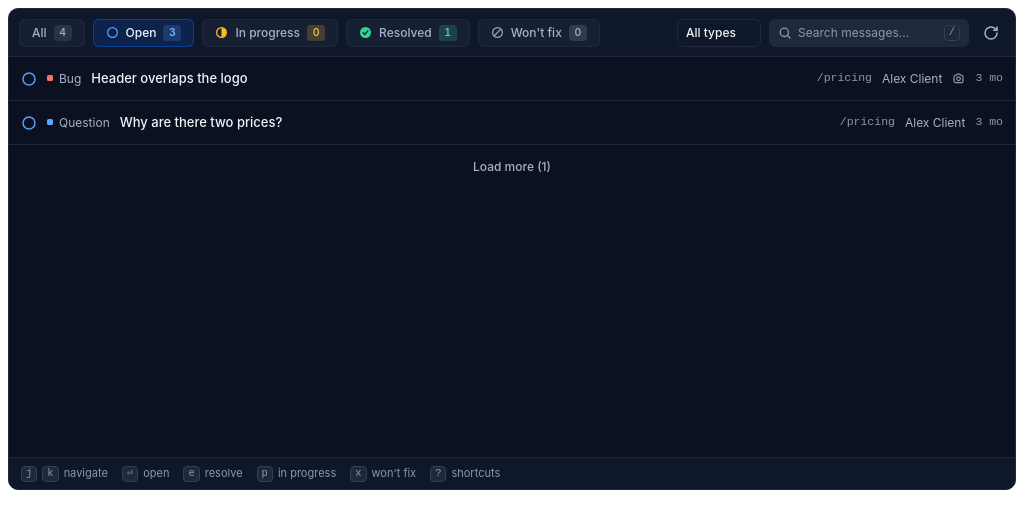
Test case: InstaFixInbox — list & tabs › shows a load-more button when more pages exist and appends on click
This screenshot has width=1024, height=507.
Expected: the number of options is 2, [9, 57, 1015, 101]; [9, 101, 1015, 145]
Click the button "Load more (1)".
click(512, 167)  # box [460, 153, 564, 181]
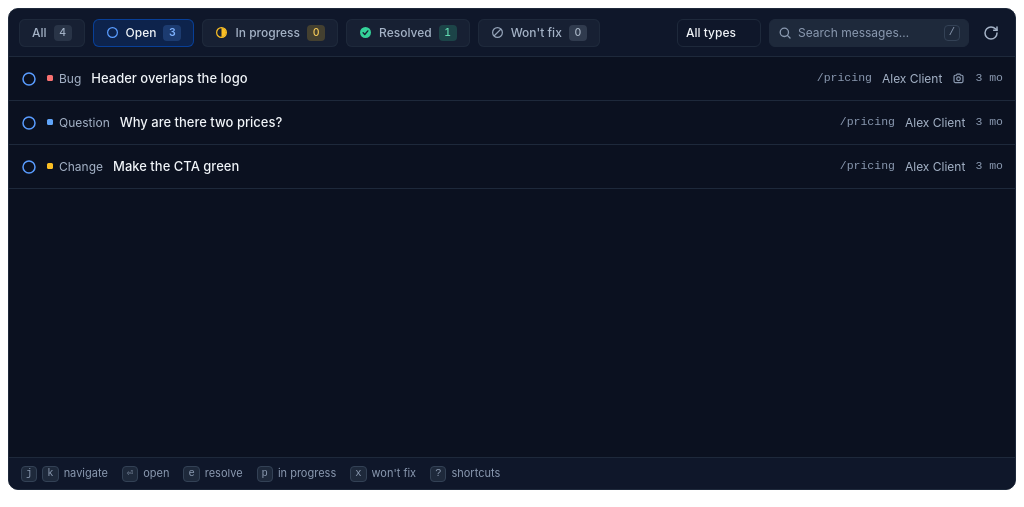
Result: the number of options is 3 at [9, 57, 1015, 101]; [9, 101, 1015, 145]; [9, 145, 1015, 189]
